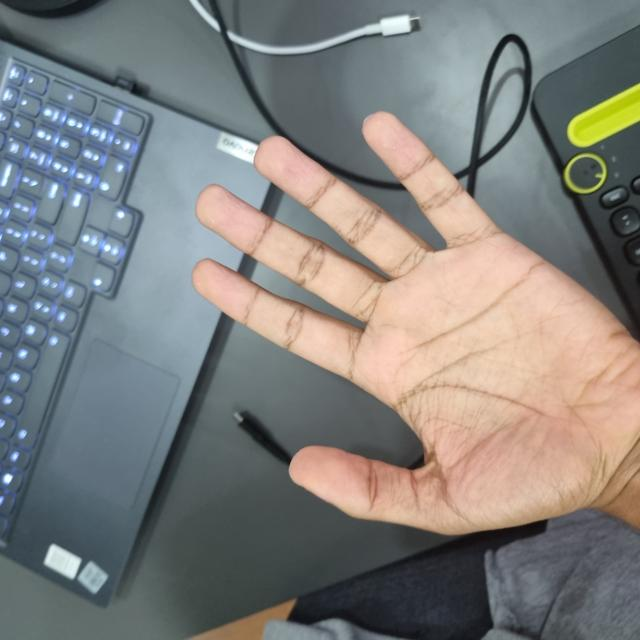Paper: (108, 193, 528, 640)
